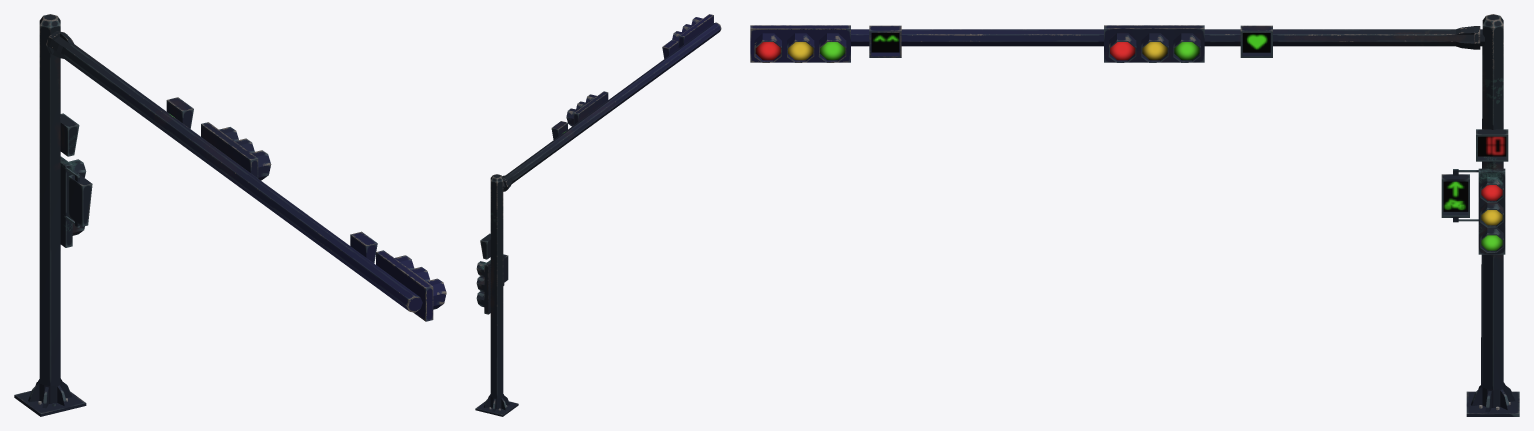
The model's file is TrafficLight_Upgrade_04.fbx.
The picture shows the model from 3 angles, left to right: view 1: azimuth 30°, elevation 25°; view 2: azimuth 150°, elevation 25°; view 3: azimuth 270°, elevation 25°; orthographic projection. The views are drawn at different scales.
Parts seen in each view (by area): view 1: Low.003; view 2: Low.003; view 3: Low.003.
Boxes of the visible parts, x1,y1,x2,y2 form: Low.003: (14,14,446,416); Low.003: (475,14,721,416); Low.003: (750,14,1519,416).
Size of the model in its own units: 16.2 by 109 by 196.
